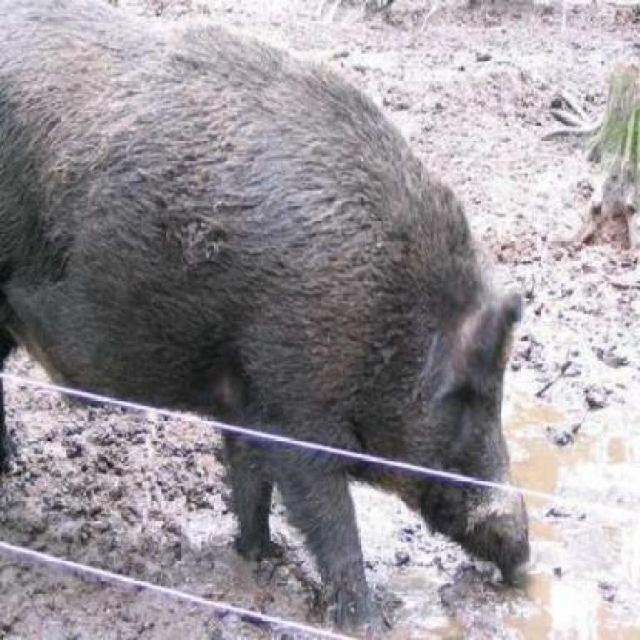pig: (2, 12, 540, 558)
